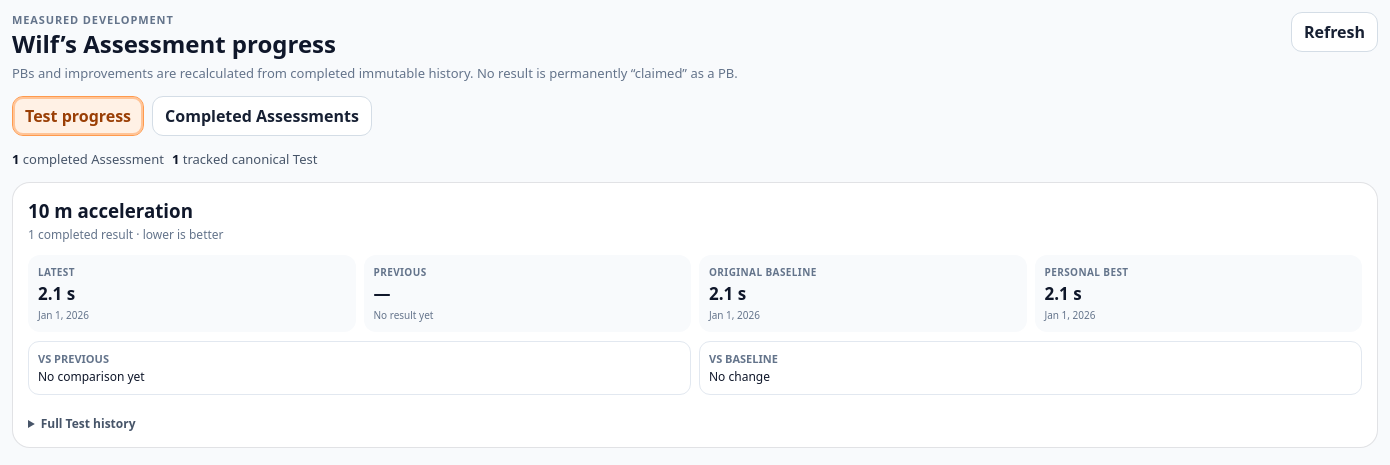
Test: AssessmentHistory › shows the underlying completed Assessment record and reloads for a profile switch
The image size is (1390, 465).
Expected: the heading "10 m acceleration" is shown, [28,198,193,223]
Click the button "Completed Assessments": (262, 116) [152,96,372,136]
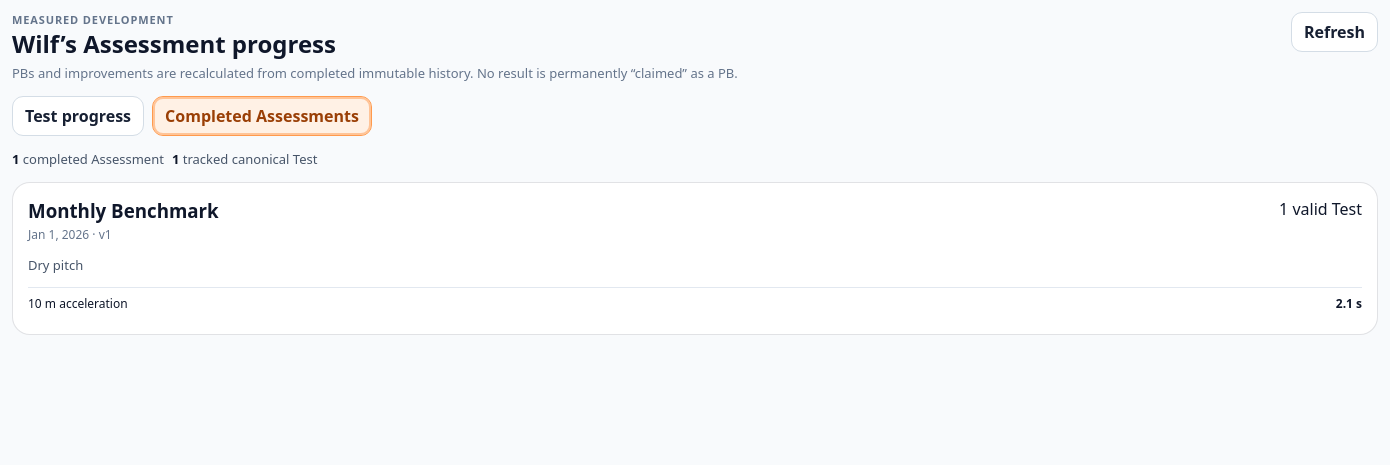
Result: the heading "Monthly Benchmark" is shown at [28,198,219,223]
Result: the text "Dry pitch" is shown at [28,256,83,274]
